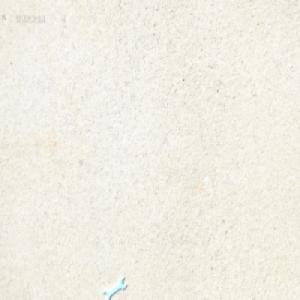Wrench: (103, 274, 127, 299)
